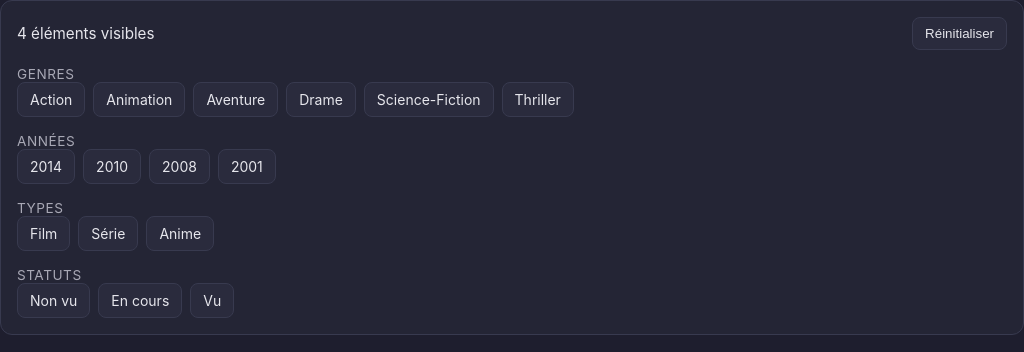
Test: <FilterPanel> — intersection des dimensions (req. 14.2) › combine genre (union) ET type (intersection)
The width and height of the screenshot is (1024, 352).
Click the button "Drame": point(321, 100) [286,82,356,117]
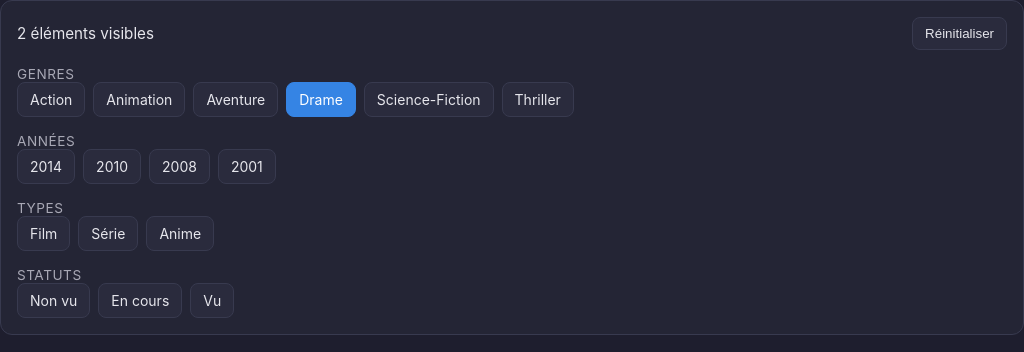
Click the button "Film": point(44, 234) [17,216,70,251]
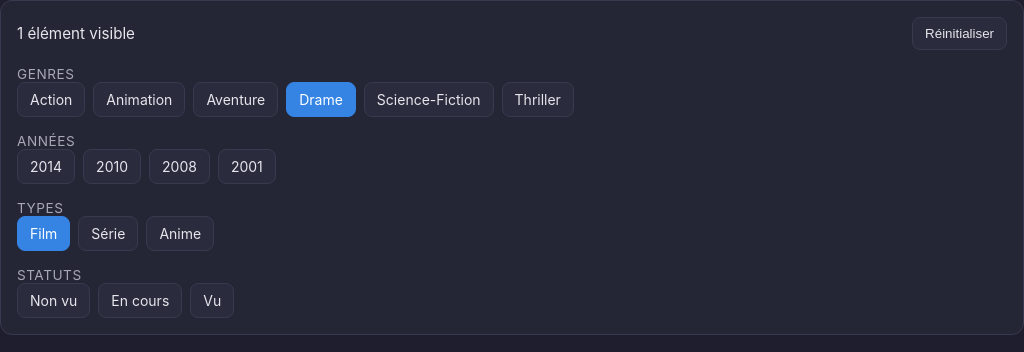
Result: the text with test id "visible-count" reads "1 élément visible" at [17,24,135,43]
